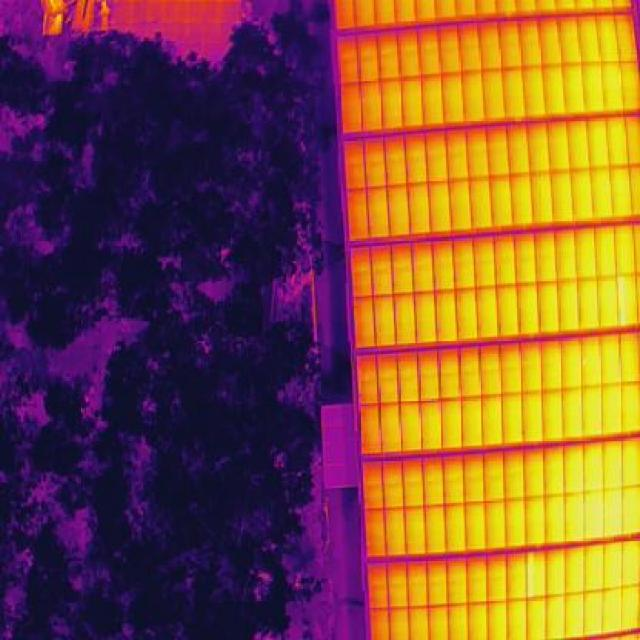diode: (617, 274, 626, 321), (527, 552, 535, 596)
